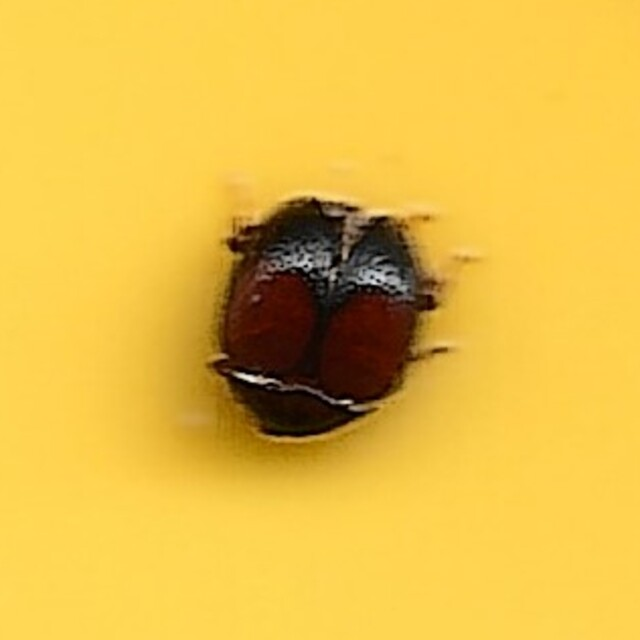Coleoptera: (203, 195, 437, 445)
